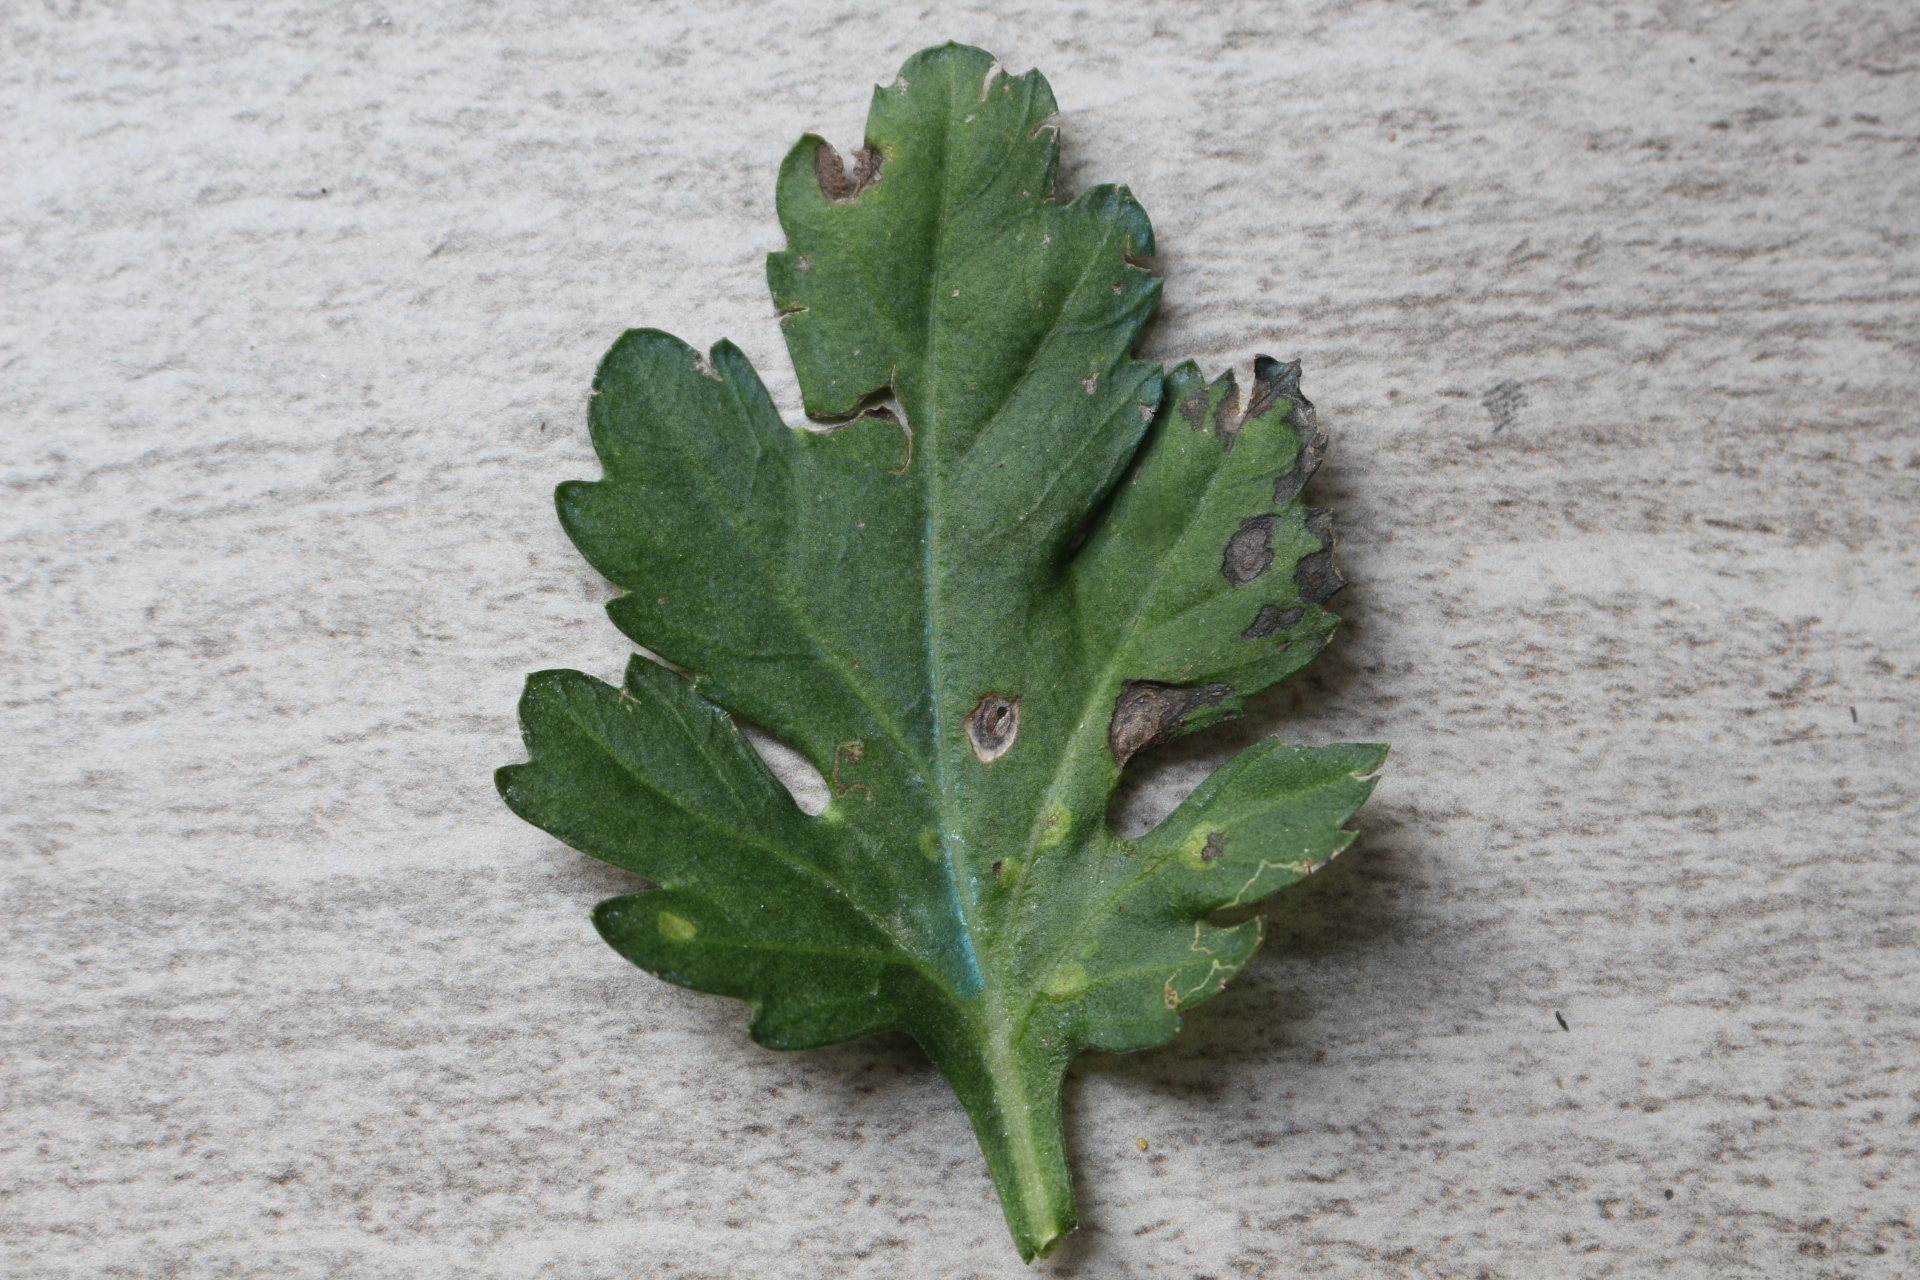namden: (964, 691, 1021, 761)
namsung: (1034, 961, 1097, 1004), (914, 827, 957, 874), (651, 910, 706, 946), (1184, 827, 1226, 871), (1039, 801, 1074, 850)
